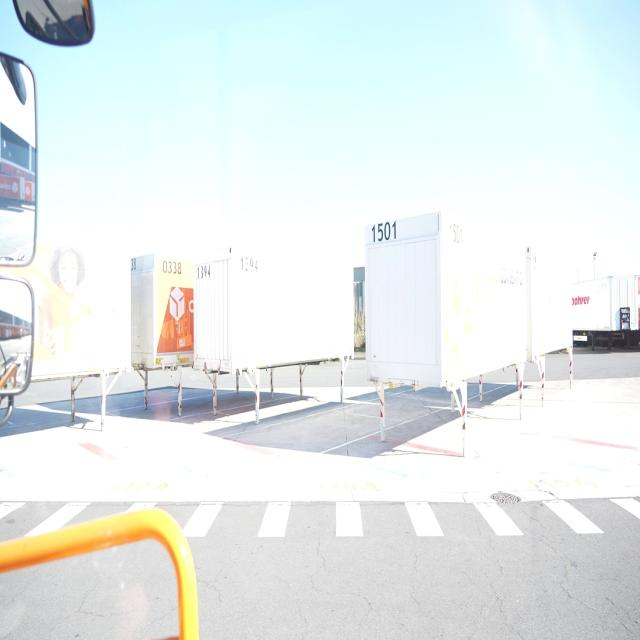Code: (368, 217, 399, 245), (159, 256, 185, 277), (195, 262, 213, 280)
